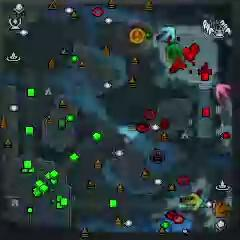x1: (215, 83, 231, 99)
x2: (185, 193, 203, 210)
x3: (160, 27, 176, 41)
x4: (166, 44, 183, 60)
x5: (215, 201, 232, 219)
